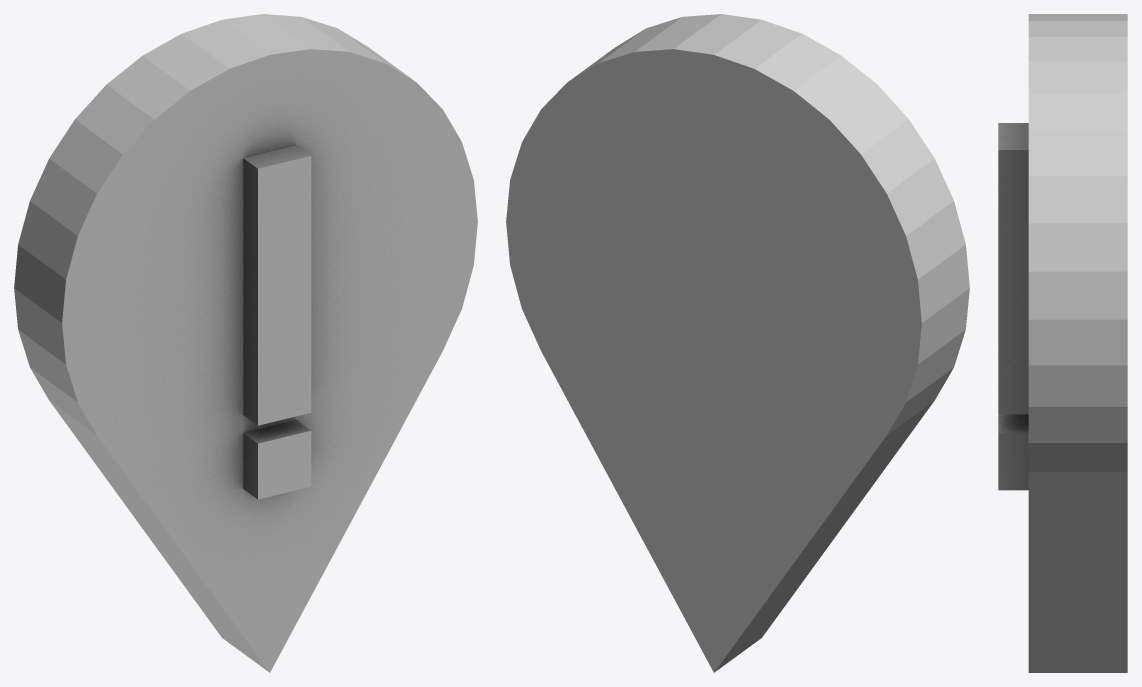
The model's file is marker_web_app.glb.
The picture shows the model from 3 angles, left to right: view 1: azimuth 30°, elevation 25°; view 2: azimuth 150°, elevation 25°; view 3: azimuth 270°, elevation 25°; orthographic projection. The views are drawn at different scales.
Visible parts, largest first — view 1: Indicator; view 2: Indicator; view 3: Indicator.
Boxes of the visible parts, x1=… form: Indicator: x1=14, y1=14, x2=477, y2=672; Indicator: x1=506, y1=14, x2=969, y2=672; Indicator: x1=998, y1=14, x2=1127, y2=672.
Bounding box in the file's own units: 0.375 × 0.5327 × 0.0979.
1 material, 1 textured.
